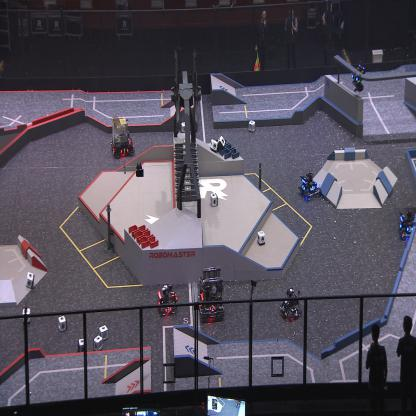car: (197, 263, 225, 318), (110, 114, 135, 160), (156, 282, 178, 317), (279, 286, 301, 320), (396, 205, 416, 240), (298, 172, 321, 202)
